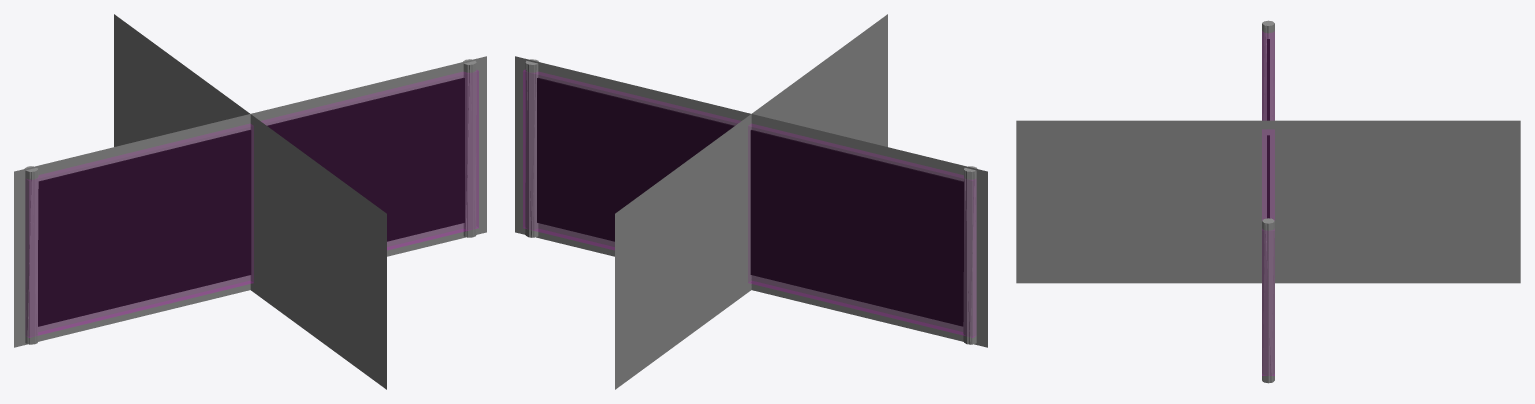
File: stake_ribbon_yb_3m.dae
3 renders of one model, left to right at view 1: azimuth 30°, elevation 25°; view 2: azimuth 150°, elevation 25°; view 3: azimuth 270°, elevation 25°, orthographic. The views are drawn at different scales.
Parts seen in each view (by area): view 1: stake_ribbon_yellow_3m_a800, Colmesh_panel-1, stake_ribbon_yellow_3m_a50, stake_ribbon_yellow_3m_a200; view 2: stake_ribbon_yellow_3m_a800, Colmesh_panel-1, stake_ribbon_yellow_3m_a50, stake_ribbon_yellow_3m_a200; view 3: stake_ribbon_yellow_3m_a50, Colmesh_panel-1, stake_ribbon_yellow_3m_a800, stake_ribbon_yellow_3m_a200.
Part boxes in pixels (x1=…): stake_ribbon_yellow_3m_a800: x1=24, y1=59, x2=476, y2=344; Colmesh_panel-1: x1=26, y1=70, x2=478, y2=337; stake_ribbon_yellow_3m_a50: x1=14, y1=14, x2=486, y2=389; stake_ribbon_yellow_3m_a200: x1=26, y1=59, x2=476, y2=344; stake_ribbon_yellow_3m_a800: x1=525, y1=59, x2=977, y2=344; Colmesh_panel-1: x1=523, y1=70, x2=975, y2=337; stake_ribbon_yellow_3m_a50: x1=515, y1=14, x2=987, y2=389; stake_ribbon_yellow_3m_a200: x1=525, y1=60, x2=976, y2=344; stake_ribbon_yellow_3m_a50: x1=1016, y1=120, x2=1520, y2=283; Colmesh_panel-1: x1=1262, y1=32, x2=1274, y2=375; stake_ribbon_yellow_3m_a800: x1=1262, y1=20, x2=1274, y2=383; stake_ribbon_yellow_3m_a200: x1=1262, y1=21, x2=1274, y2=382.
Bounding box in the file's own units: 3.15 × 3.15 × 1.12.
Materials: 3 (1 with a texture image).
